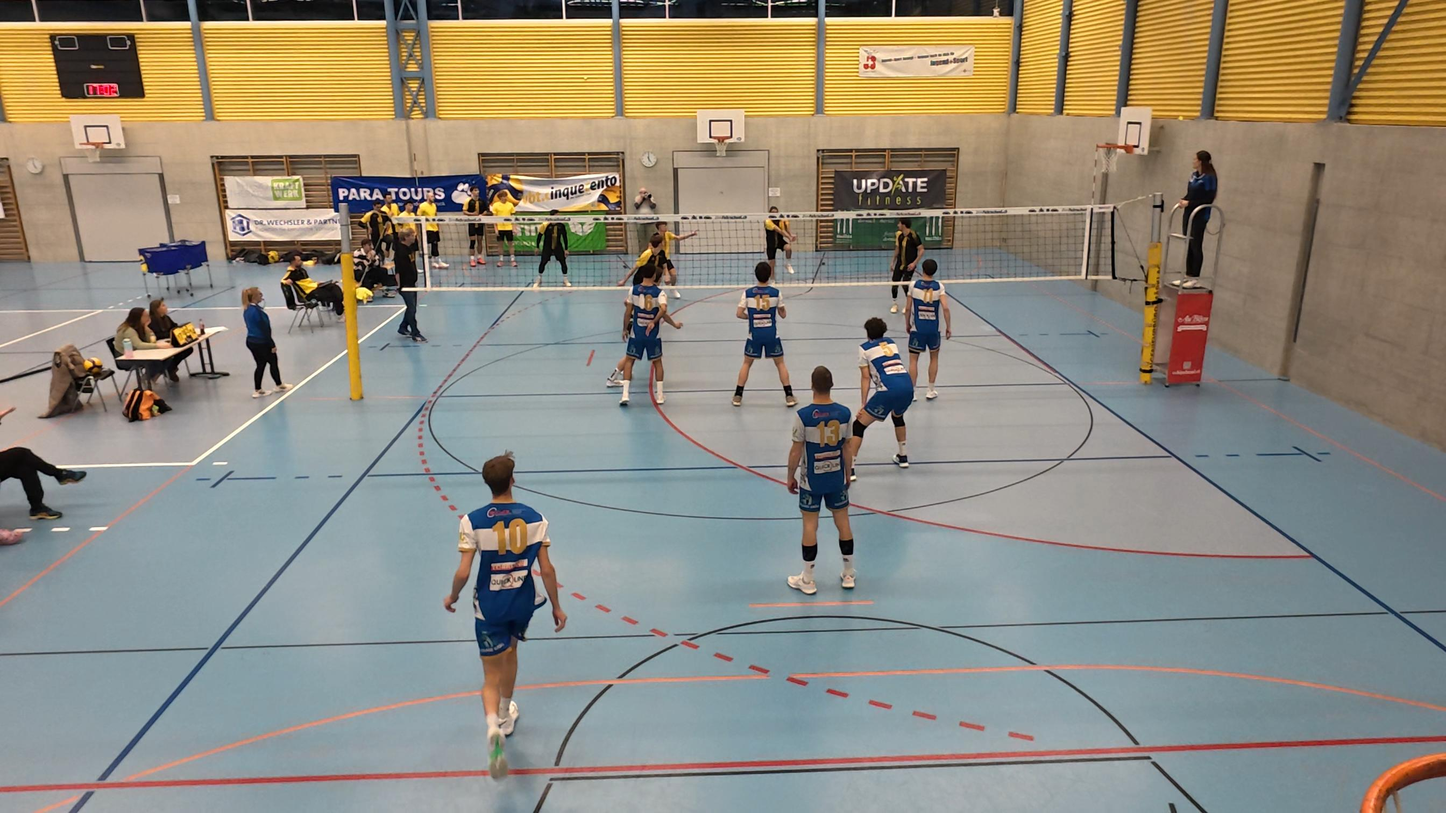Player: (444, 453, 564, 775), (784, 366, 859, 595), (845, 316, 915, 471), (607, 274, 683, 408), (731, 261, 792, 405), (905, 255, 948, 404), (647, 220, 697, 294), (533, 208, 574, 290), (889, 213, 921, 311), (625, 239, 669, 280)
Receive: (761, 206, 797, 282)
ball: (777, 216, 791, 234)
